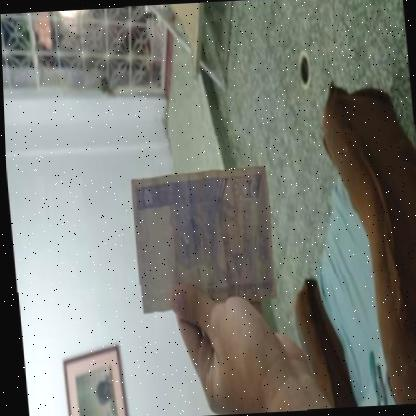ten-back-vef: (126, 164, 276, 313)
